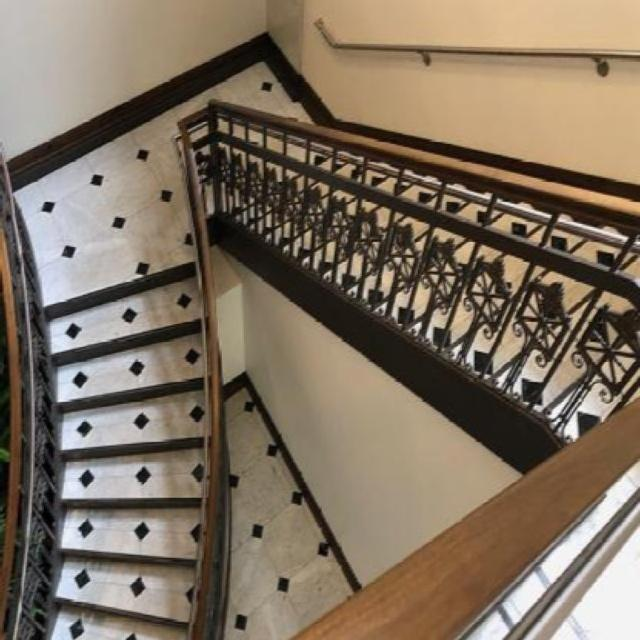stair: (0, 158, 246, 640)
